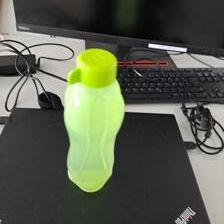bottle: (61, 48, 126, 192)
